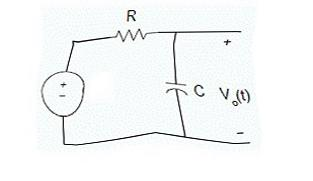Battery: (29, 65, 96, 123)
